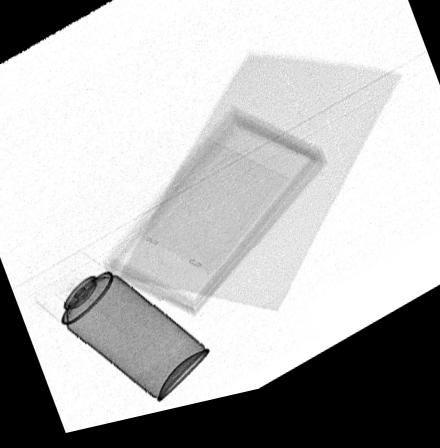Sprayer: (32, 256, 209, 410)
